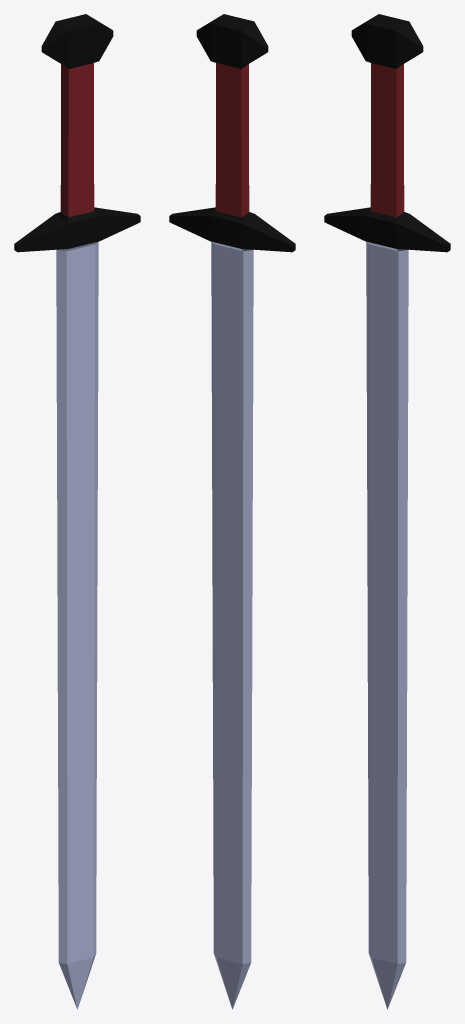
File: BasicSword.fbx
3 renders of one model, left to right at view 1: azimuth 30°, elevation 25°; view 2: azimuth 150°, elevation 25°; view 3: azimuth 330°, elevation 25°, orthographic.
Parts seen in each view (by area): view 1: rootGrip; view 2: rootGrip; view 3: rootGrip.
Part boxes in pixels (left/top/right/bottom): rootGrip: left=14, top=14, right=140, bottom=1009; rootGrip: left=169, top=14, right=295, bottom=1009; rootGrip: left=324, top=14, right=450, bottom=1009.
Bounding box in the file's own units: 13.07 × 99.92 × 2.43.
